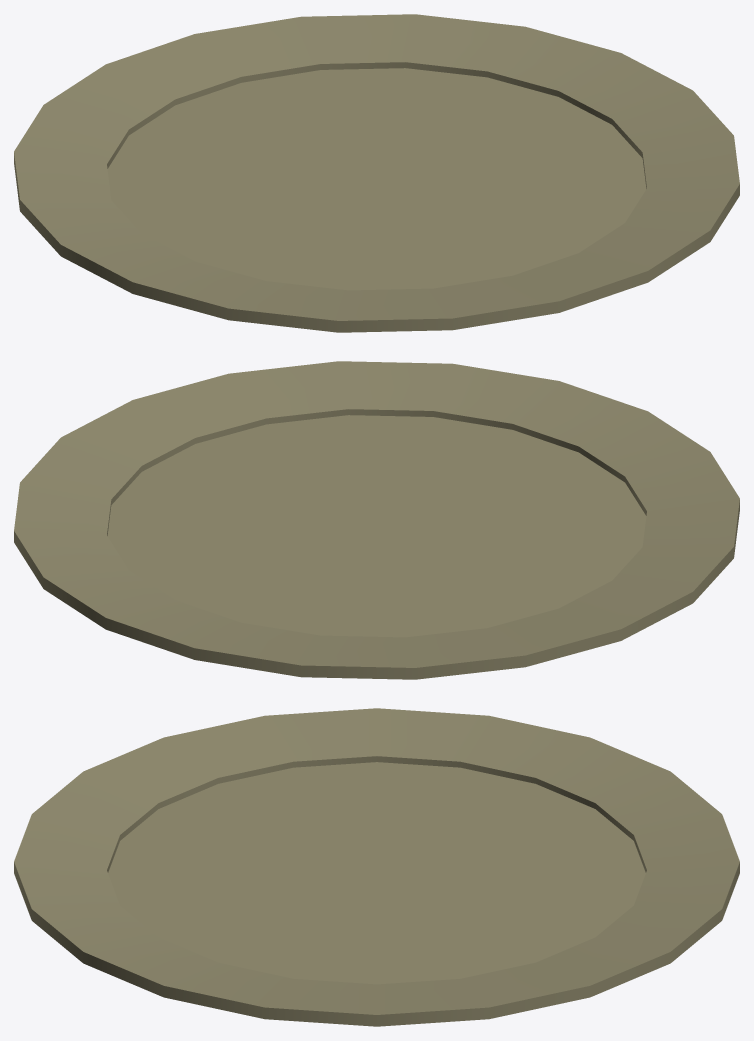
File: SM_Prop_Plate.fbx
3 renders of one model, top to bottom at view 1: azimuth 30°, elevation 25°; view 2: azimuth 150°, elevation 25°; view 3: azimuth 270°, elevation 25°, orthographic.
Visible parts, largest first — view 1: SM_Prop_Plate; view 2: SM_Prop_Plate; view 3: SM_Prop_Plate.
Boxes of the visible parts, <box> form: SM_Prop_Plate: <box>14,14,739,332</box>; SM_Prop_Plate: <box>14,361,739,679</box>; SM_Prop_Plate: <box>14,708,739,1026</box>.
Bounding box in the file's own units: 25 × 0.8032 × 25.
